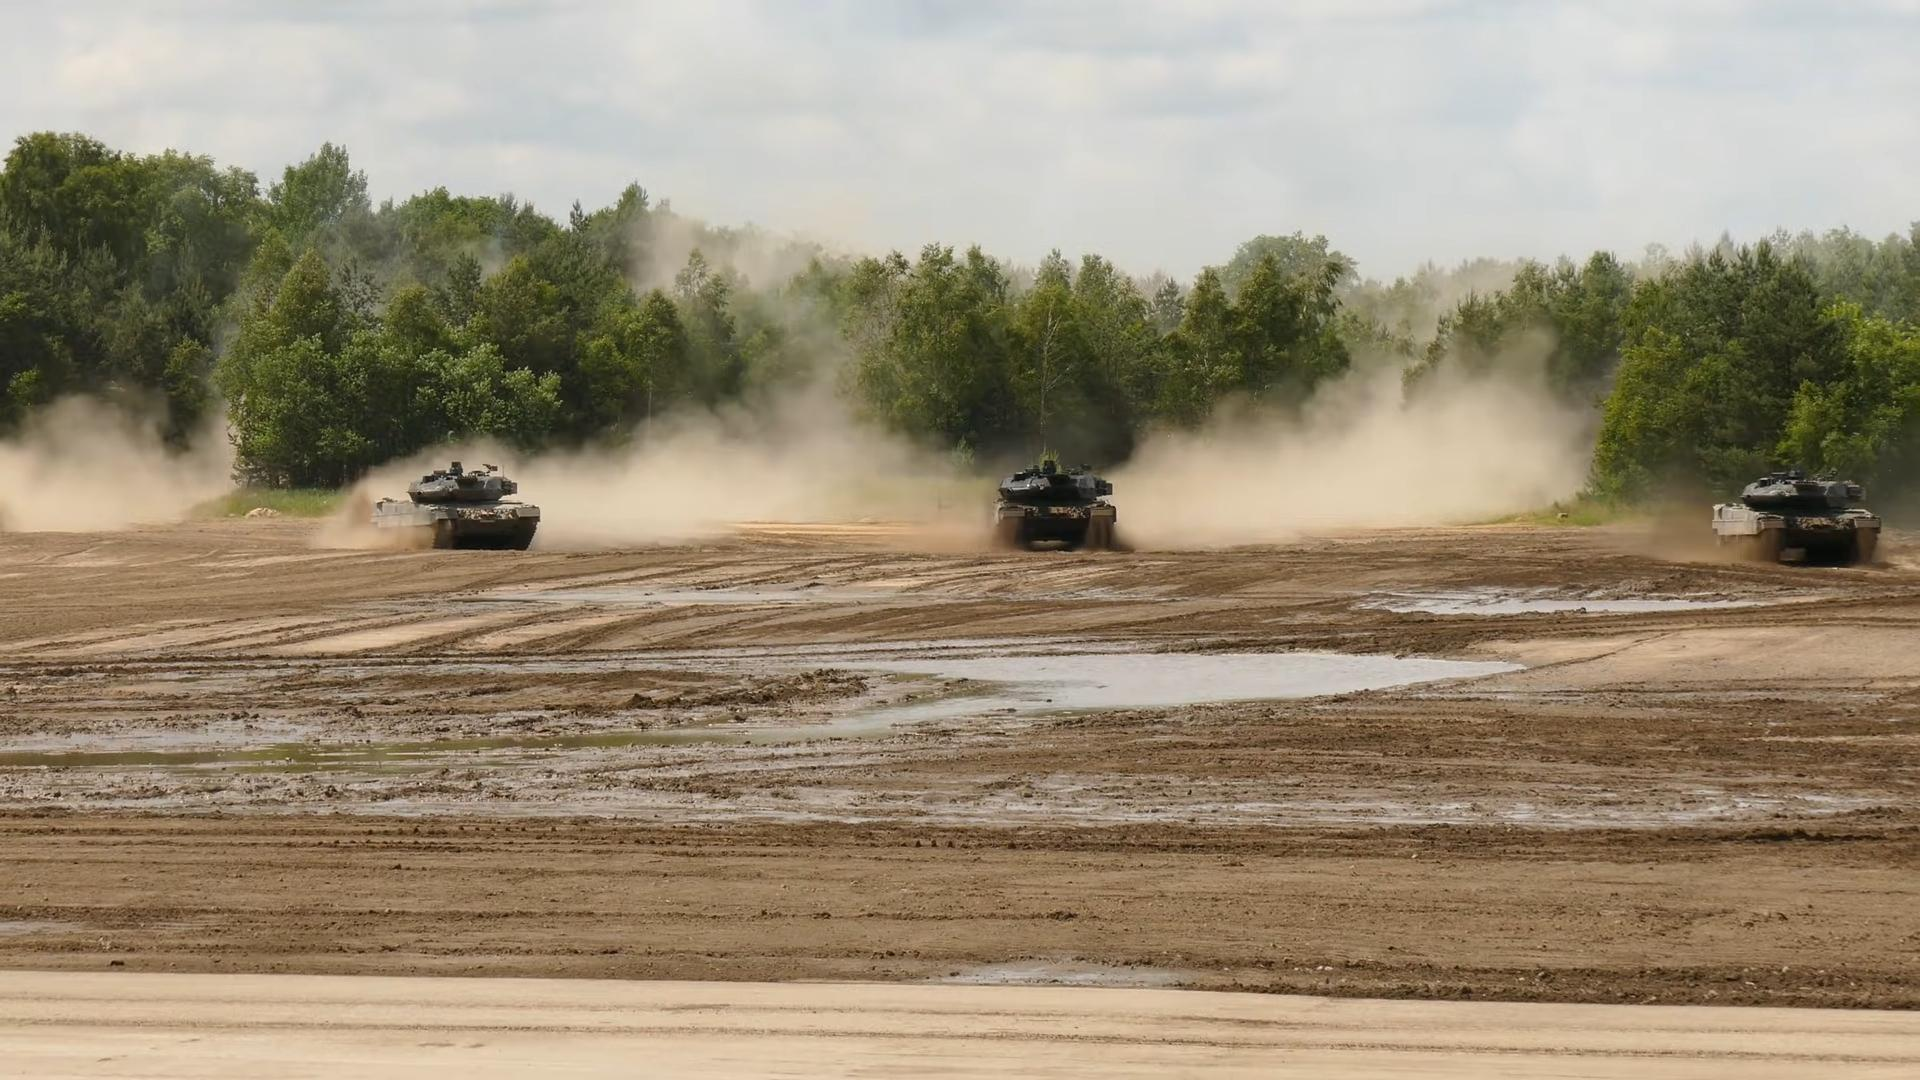tank: (1712, 464, 1883, 562), (371, 460, 542, 551), (993, 460, 1116, 545)
